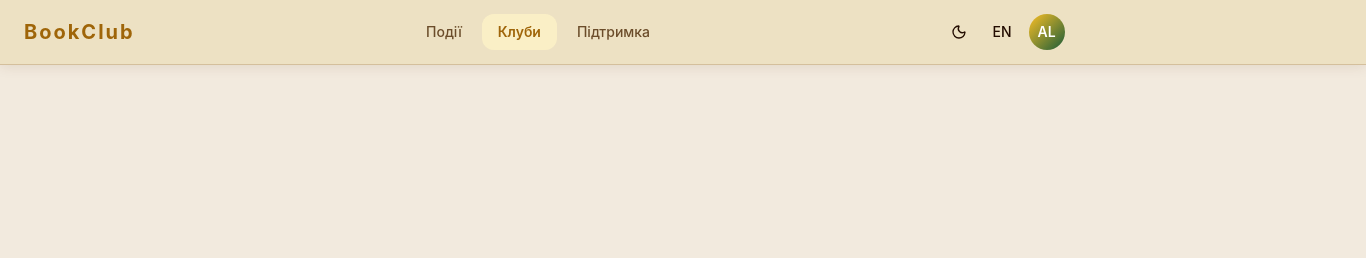
Test: Header › closes the user menu on an outside click
The width and height of the screenshot is (1366, 258).
What coordinates should you click on to do the following:
click the button with aria-label "User menu"
I would click on:
 (1046, 32)
Its box is [1026,12,1066,52].
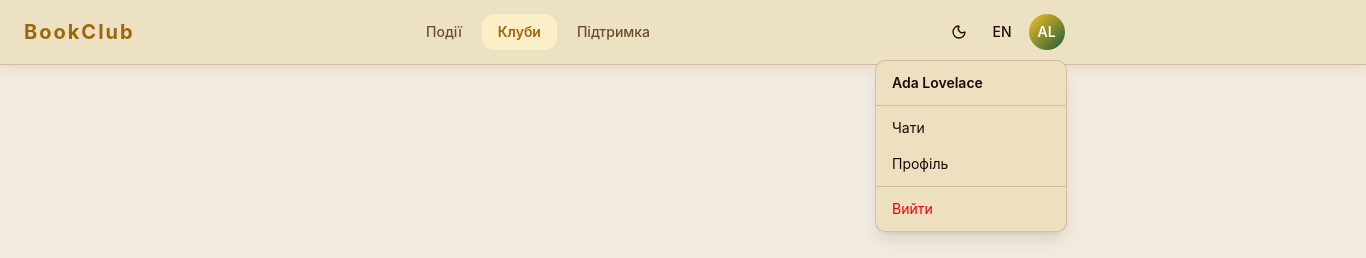
Check: the menu is shown, box [875,60,1067,232]
What coordinates should you click on to do the following:
click the element that starts with "BookClub"
I would click on:
 (683, 32)
Its box is [0,0,1365,65].
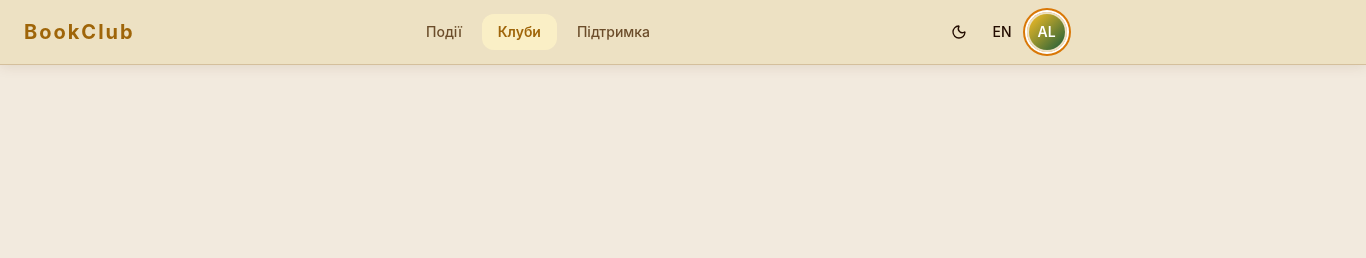
Check: the menu is gone
